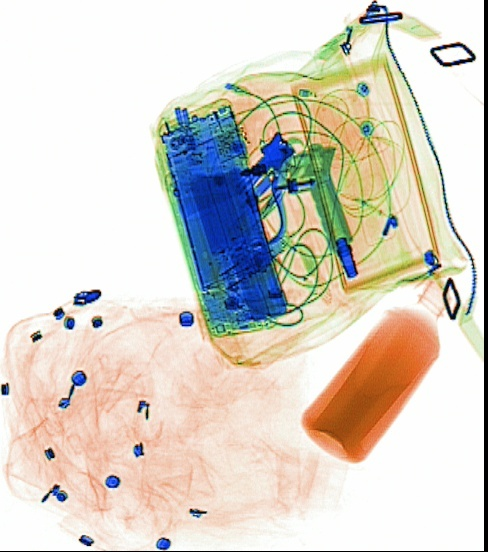powerbank: (182, 163, 289, 326)
